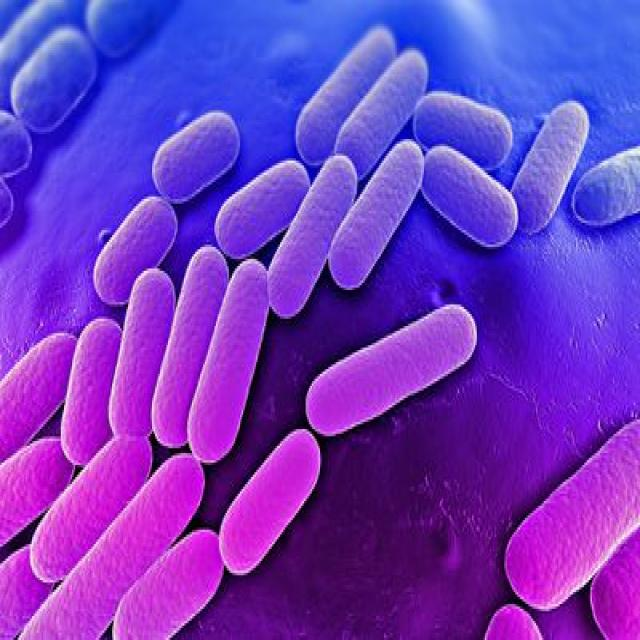Rod_bacteria: (2, 2, 640, 637)
